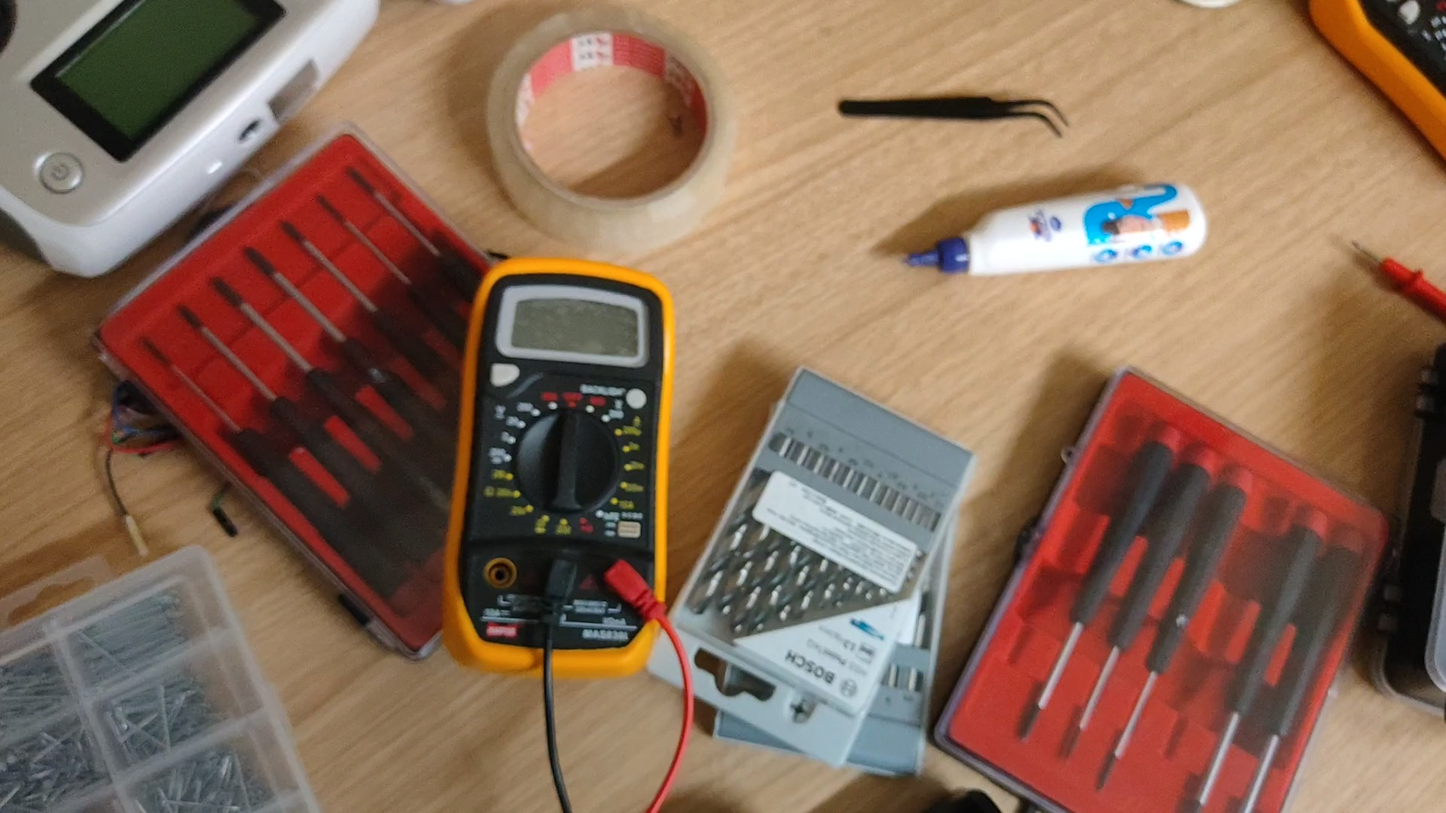multimeter: (460, 257, 675, 600), (443, 584, 534, 673), (444, 401, 476, 577), (563, 622, 657, 678)
